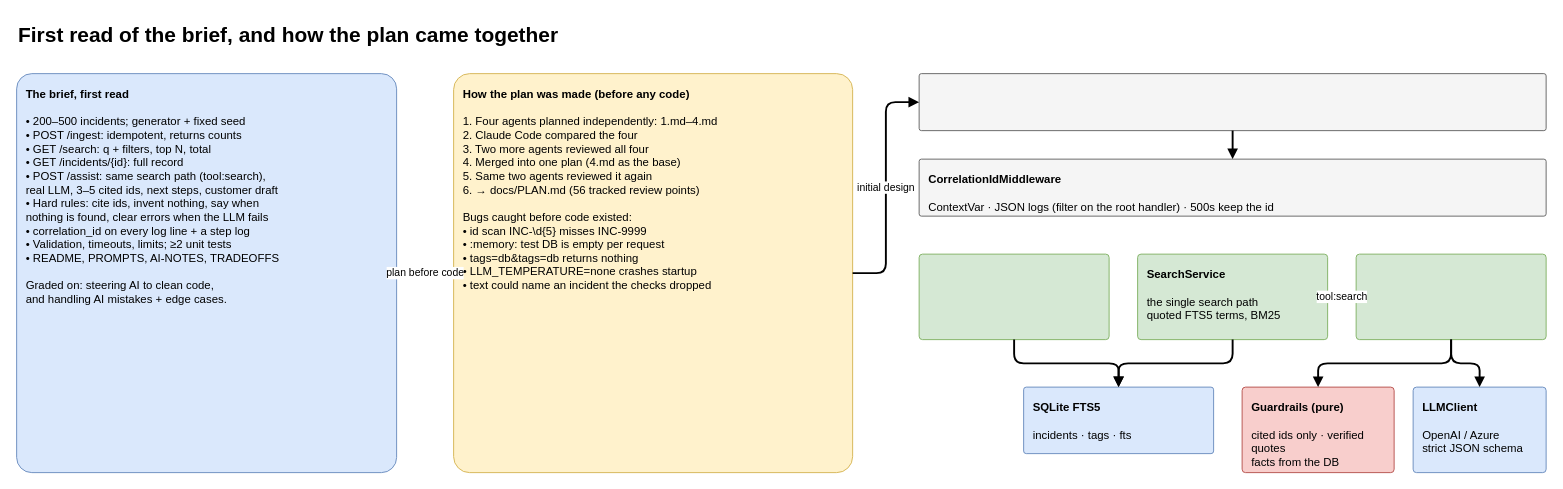
Image size: 1563x489. Some labels were removed from this diagram. The shapes that lost their labels are listed below. From the top down, each one's box as (x1, y1, x2, y2) in pixels, then its label:
(918, 73, 1546, 131): HTTP /ingest · /search · /incidents/{id} · /assist · /debug/trace · /health
(918, 253, 1109, 340): IngestService hash → add / update / skip BEGIN IMMEDIATE
(1355, 253, 1546, 340): AssistService gate → context → LLM → guardrails
